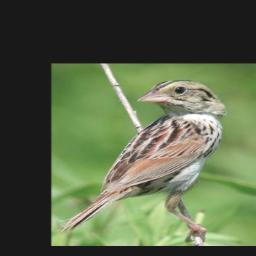Sparrow: (57, 79, 228, 243)
